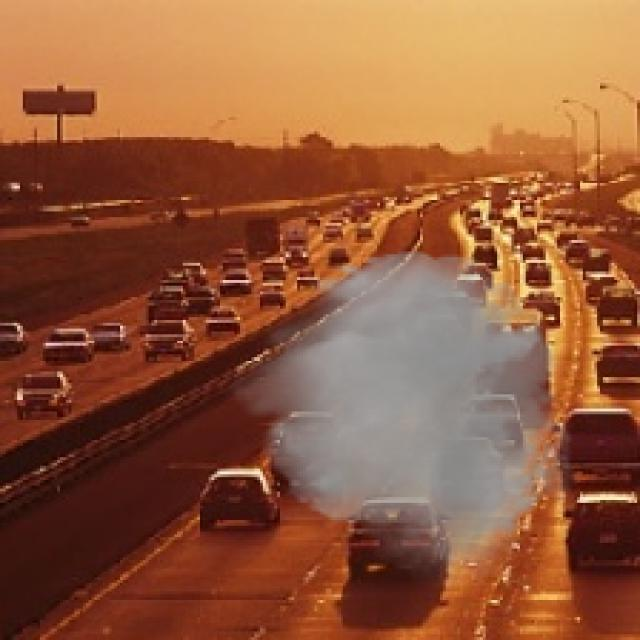smoke: (220, 243, 589, 591)
